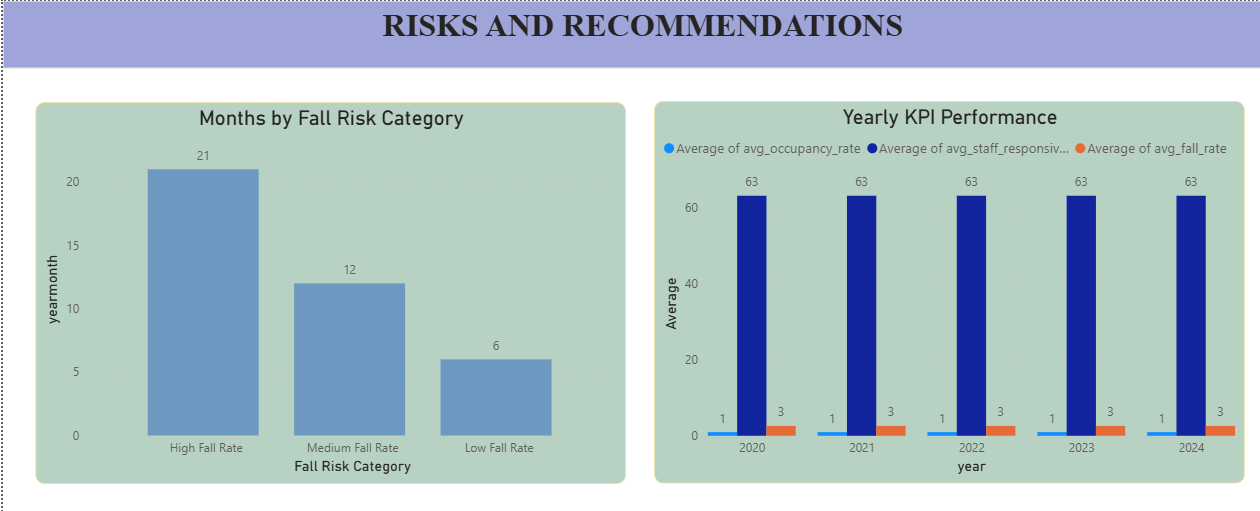

This screenshot's page, from the dashboard's own definition file:
{"tool":"powerbi","page":{"name":" Risks","canvas":[1280,720],"ordinal":2},"visuals":[{"type":"textbox","box":[0,0,1280,67.1],"z":0},{"type":"clusteredColumnChart","title":"Yearly KPI Performance","fields":{"Category":["public monthly_healthcare_kpi_trend.year"],"Y":["Avg(public fall_risk_category_summary.avg_occupancy_rate)","Avg(public fall_risk_category_summary.avg_staff_responsiveness)","Avg(public fall_risk_category_summary.avg_fall_rate)"]},"box":[651.2,100,590,382.5],"z":2},{"type":"clusteredColumnChart","title":"Months by Fall Risk Category","fields":{"Category":["public high_risk_months.fall_risk_category"],"Y":["CountNonNull(public high_risk_months.yearmonth)"]},"box":[32.5,101.2,590,381.2],"z":3}]}

Visuals, with their boxes on the page's 1280x720 design canvas (x1, y1, x2, y2). These are canvas units, not pixel positions in the 1260x511 screenshot, which may show the page scaled, cropped or inside an application window:
textbox: x1=0 y1=0 x2=1280 y2=67
"Yearly KPI Performance" clusteredColumnChart: x1=651 y1=100 x2=1241 y2=482
"Months by Fall Risk Category" clusteredColumnChart: x1=32 y1=101 x2=622 y2=482
